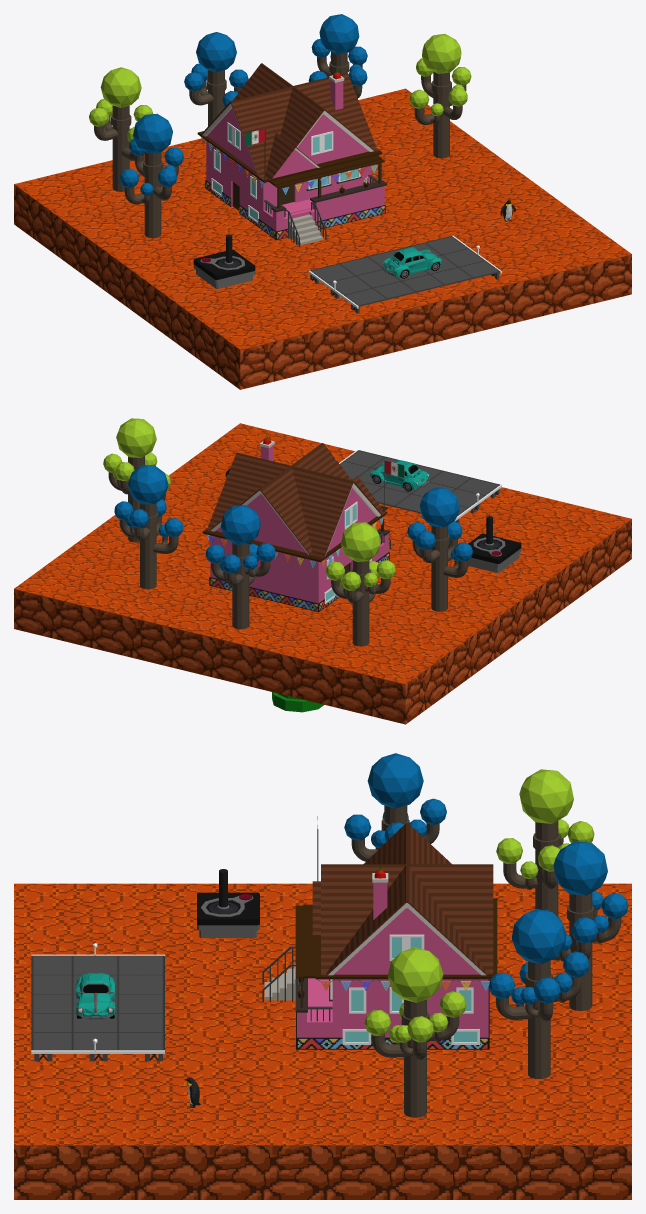
3 views of the same model, one above another, from view 1: azimuth 30°, elevation 25°; view 2: azimuth 150°, elevation 25°; view 3: azimuth 270°, elevation 25° (orthographic). The views are drawn at different scales.
Visible parts, largest first — view 1: Cube.001, Cube.1005, OBJRANDOM_JOYSTICK, VEHICLES_VOLKSWAGEN; view 2: Cube.001, Cube.1005, OBJRANDOM_JOYSTICK, VEHICLES_VOLKSWAGEN, UNDERGROUND_PIPES; view 3: Cube.001, Cube.1005, OBJRANDOM_JOYSTICK, VEHICLES_VOLKSWAGEN.
Part boxes in pixels (x1=…): Cube.001: x1=14, y1=14, x2=631, y2=389; Cube.1005: x1=197, y1=63, x2=387, y2=246; OBJRANDOM_JOYSTICK: x1=193, y1=234, x2=255, y2=288; VEHICLES_VOLKSWAGEN: x1=382, y1=247, x2=442, y2=278; Cube.001: x1=14, y1=418, x2=631, y2=724; Cube.1005: x1=202, y1=433, x2=404, y2=612; OBJRANDOM_JOYSTICK: x1=468, y1=516, x2=521, y2=572; VEHICLES_VOLKSWAGEN: x1=370, y1=460, x2=429, y2=491; UNDERGROUND_PIPES: x1=272, y1=692, x2=324, y2=712; Cube.001: x1=14, y1=753, x2=631, y2=1199; Cube.1005: x1=262, y1=816, x2=497, y2=1049; OBJRANDOM_JOYSTICK: x1=197, y1=869, x2=259, y2=937; VEHICLES_VOLKSWAGEN: x1=76, y1=973, x2=115, y2=1019.
Size of the model in its own units: 4000 by 2293 by 4000.
Materials: 71 (6 with a texture image).
